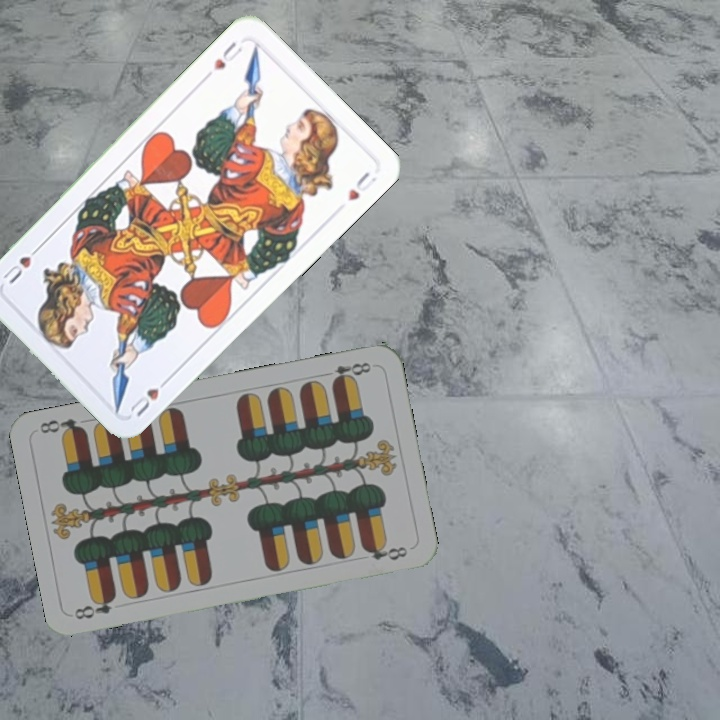E8: (318, 358, 374, 387), (70, 591, 119, 622)
HU: (126, 372, 173, 419), (201, 37, 245, 82)
